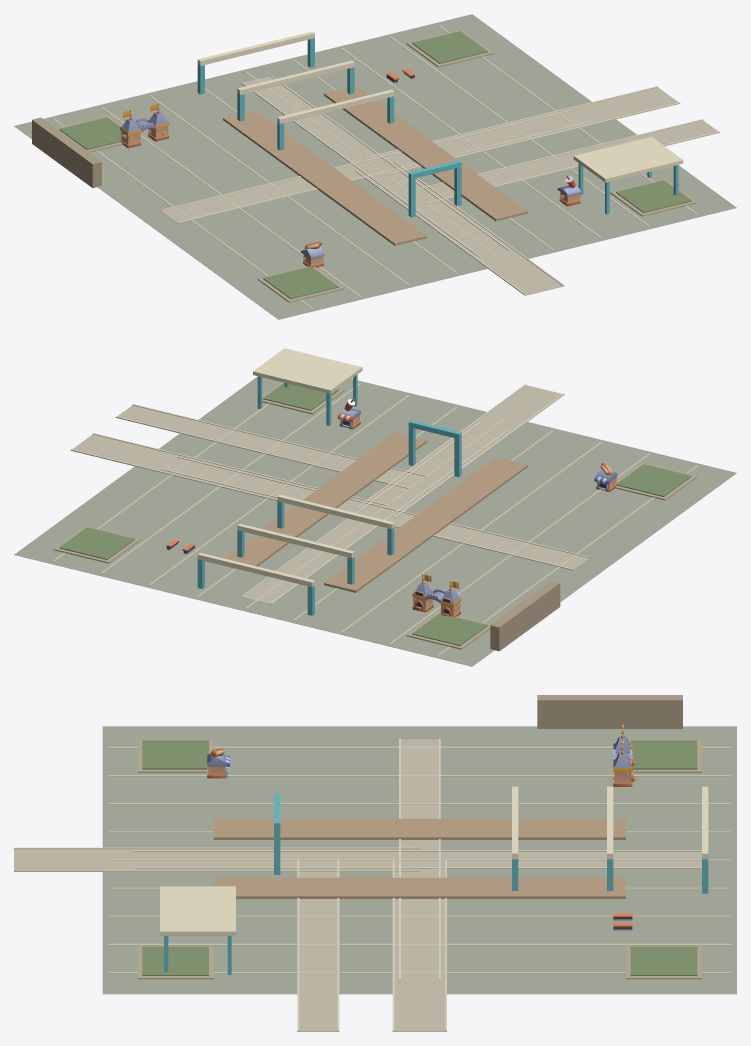
File: gardens-1-1.glb
3 views of the same model, one above another, from view 1: azimuth 30°, elevation 25°; view 2: azimuth 150°, elevation 25°; view 3: azimuth 270°, elevation 25° (orthographic). The views are drawn at different scales.
Visible parts, largest first — view 1: gardens-1-1; view 2: gardens-1-1; view 3: gardens-1-1.
Boxes of the visible parts, box(x1,y1,x2,y2) form: gardens-1-1: box(14, 14, 736, 319); gardens-1-1: box(14, 348, 736, 666); gardens-1-1: box(14, 695, 736, 1031).
Size of the model in its own units: 230 by 18 by 228.
Materials: 15 (4 with a texture image).
